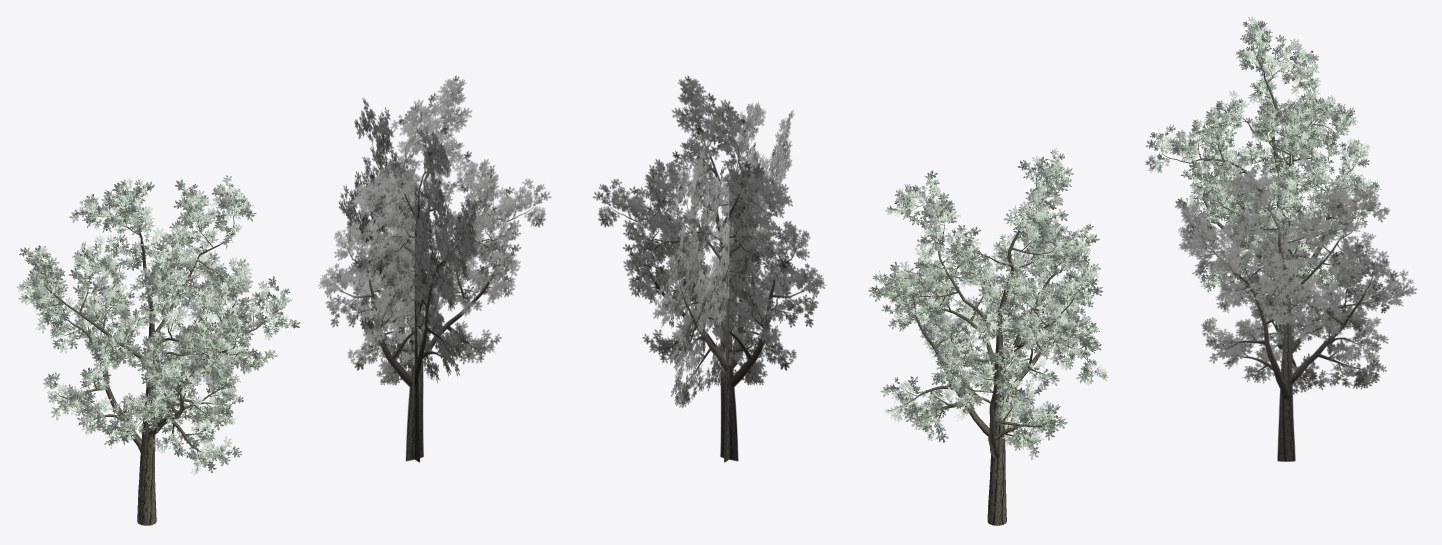
The model's file is tree4.glb.
The picture shows the model from 3 angles, left to right: view 1: azimuth 30°, elevation 25°; view 2: azimuth 150°, elevation 25°; view 3: azimuth 270°, elevation 25°; orthographic projection. The views are drawn at different scales.
Visible parts, largest first — view 1: Leaves_LOD0.003, Empty.012, Branches_LOD0.003; view 2: Empty.012, Leaves_LOD0.003, Branches_LOD0.003; view 3: Empty.012, Leaves_LOD0.003, Branches_LOD0.003.
Boxes of the visible parts, left/top/right/bottom form: Leaves_LOD0.003: left=16, top=175, right=300, bottom=475; Empty.012: left=318, top=75, right=551, bottom=462; Branches_LOD0.003: left=35, top=195, right=280, bottom=525; Empty.012: left=592, top=75, right=826, bottom=462; Leaves_LOD0.003: left=868, top=148, right=1107, bottom=459; Branches_LOD0.003: left=883, top=163, right=1095, bottom=525; Empty.012: left=1174, top=169, right=1417, bottom=461; Leaves_LOD0.003: left=1145, top=16, right=1381, bottom=308; Branches_LOD0.003: left=1157, top=30, right=1361, bottom=349.
Bounding box in the file's own units: 65.76 × 47.31 × 36.11.
3 materials, 3 textured.
